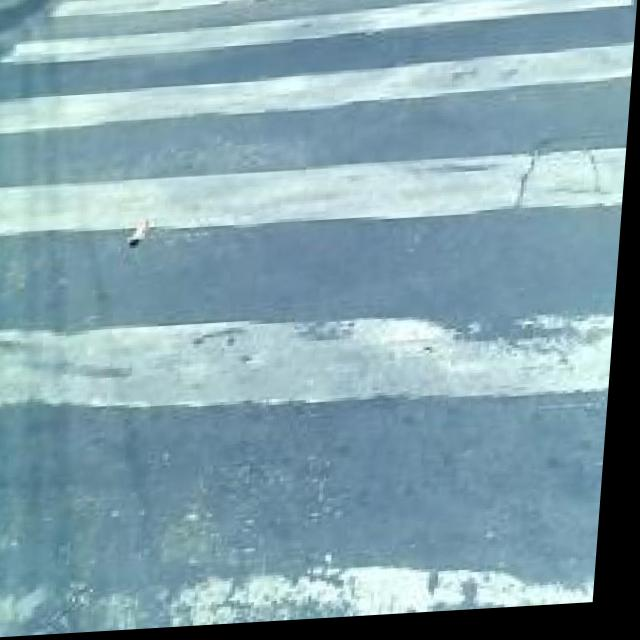zebra: (0, 1, 610, 623)
